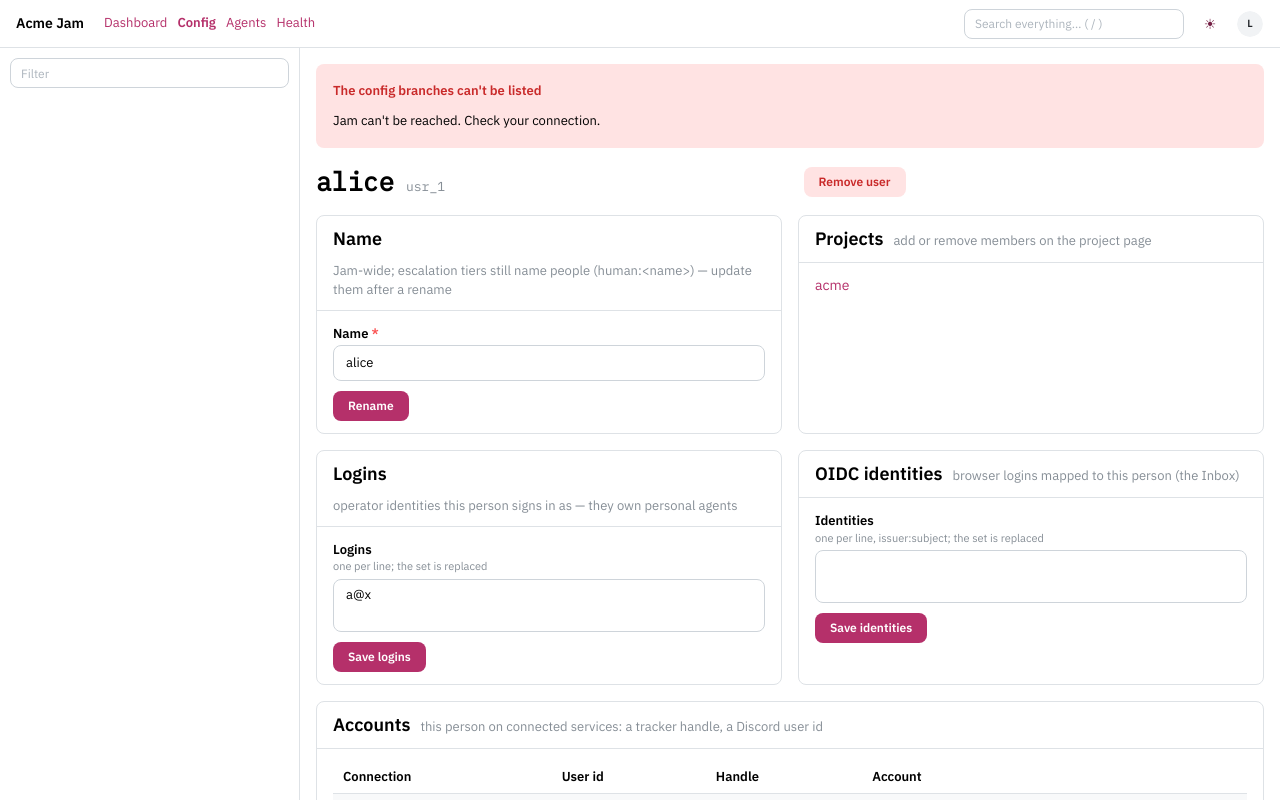
Scenario: a user's page › keeps a refused rename's name and shows why
Replace the text in the field labelled "Name *" with "bob" at coordinates (549, 363), box [333,345,765,381]
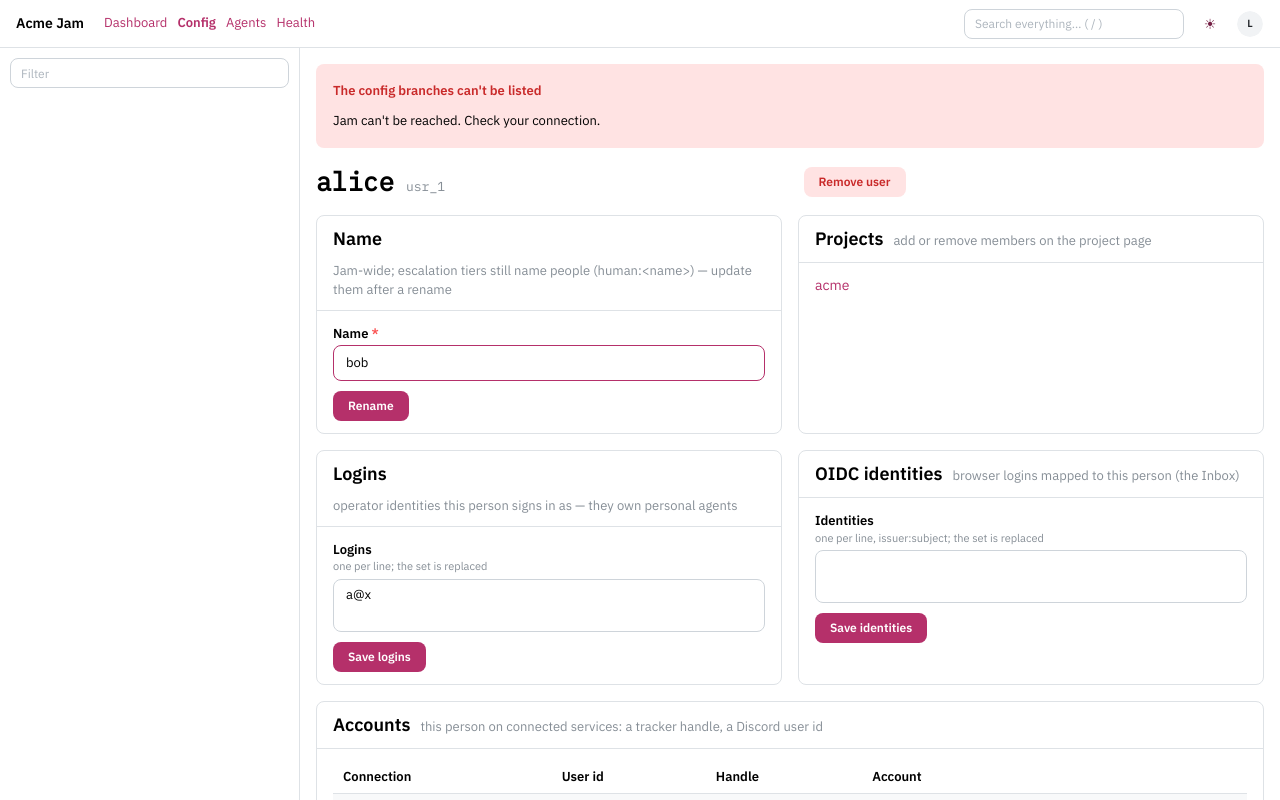
Click the button "Rename" at coordinates (371, 406), box [333,391,409,421]
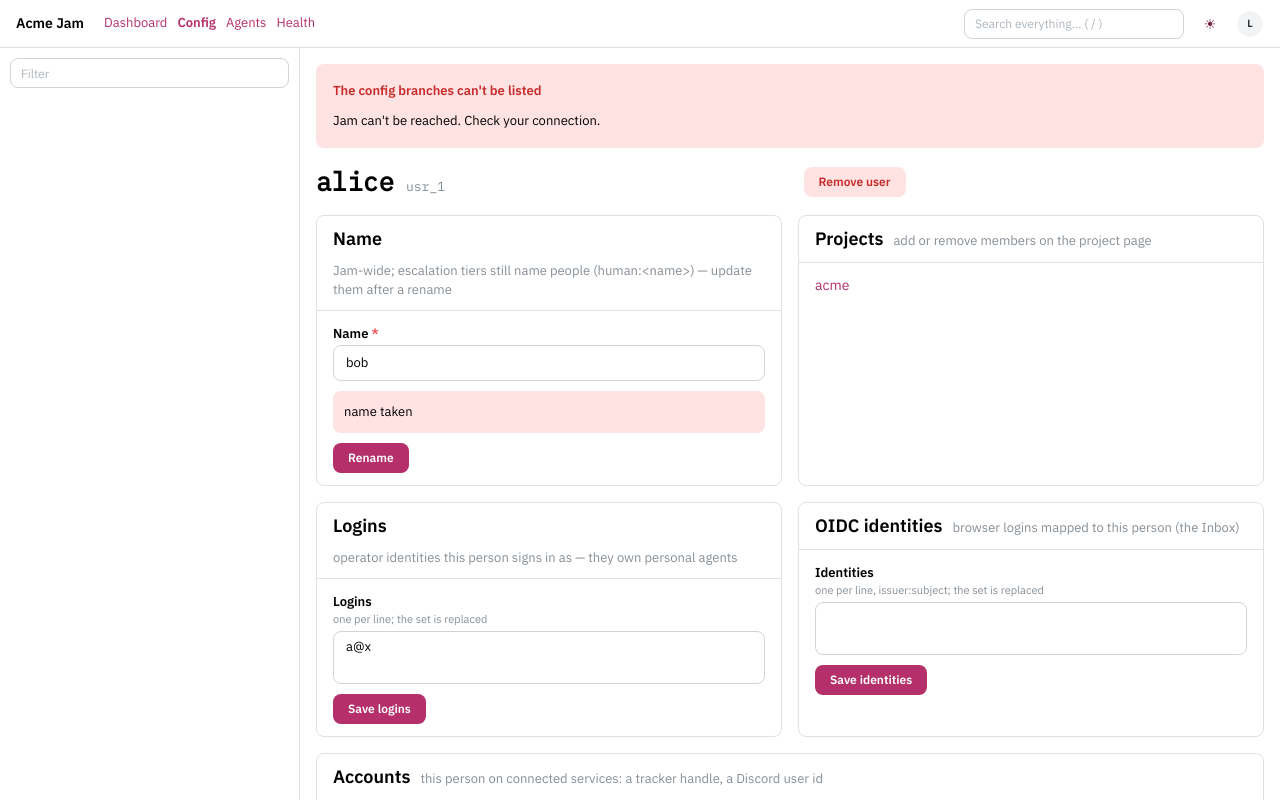
Expected: the text "name taken" is shown, [344,403,412,420]
